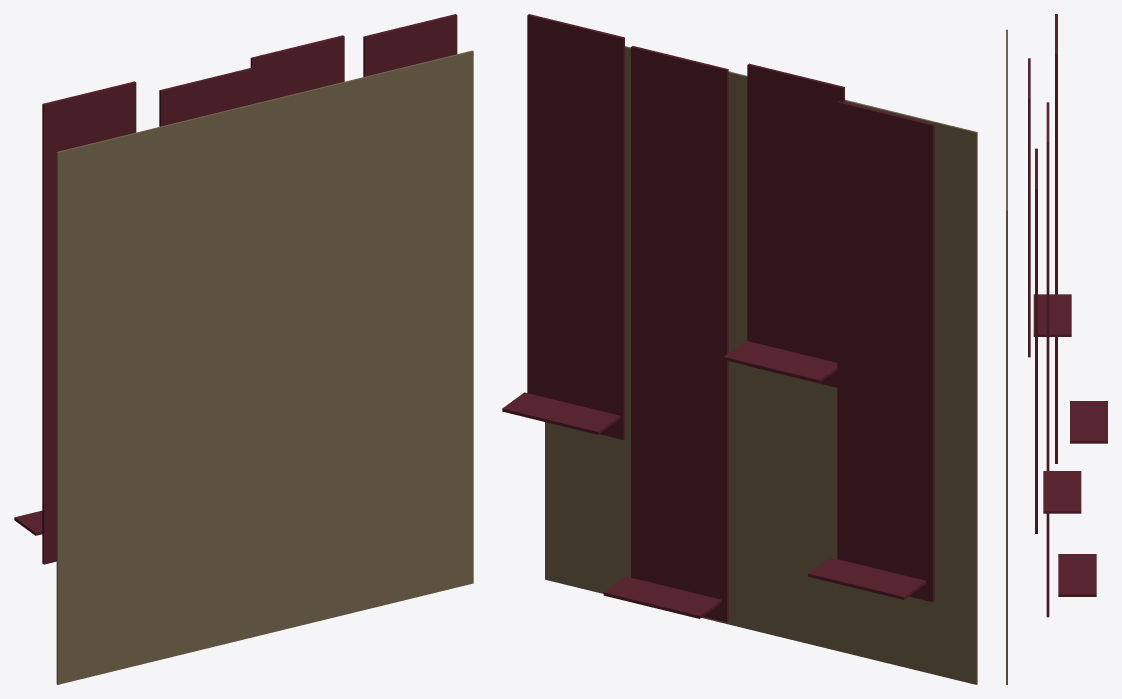
File: SM_PRP_PapelDescascando.fbx
3 renders of one model, left to right at view 1: azimuth 30°, elevation 25°; view 2: azimuth 150°, elevation 25°; view 3: azimuth 270°, elevation 25°, orthographic. The views are drawn at different scales.
Visible parts, largest first — view 1: SM_PRP_PapelDescascando; view 2: SM_PRP_PapelDescascando; view 3: SM_PRP_PapelDescascando.
Part boxes in pixels (bbox=[...]): SM_PRP_PapelDescascando: bbox=[14, 14, 473, 684]; SM_PRP_PapelDescascando: bbox=[502, 14, 977, 684]; SM_PRP_PapelDescascando: bbox=[1006, 14, 1107, 684].
Size of the model in its own units: 0.9 by 1.15 by 0.214.
